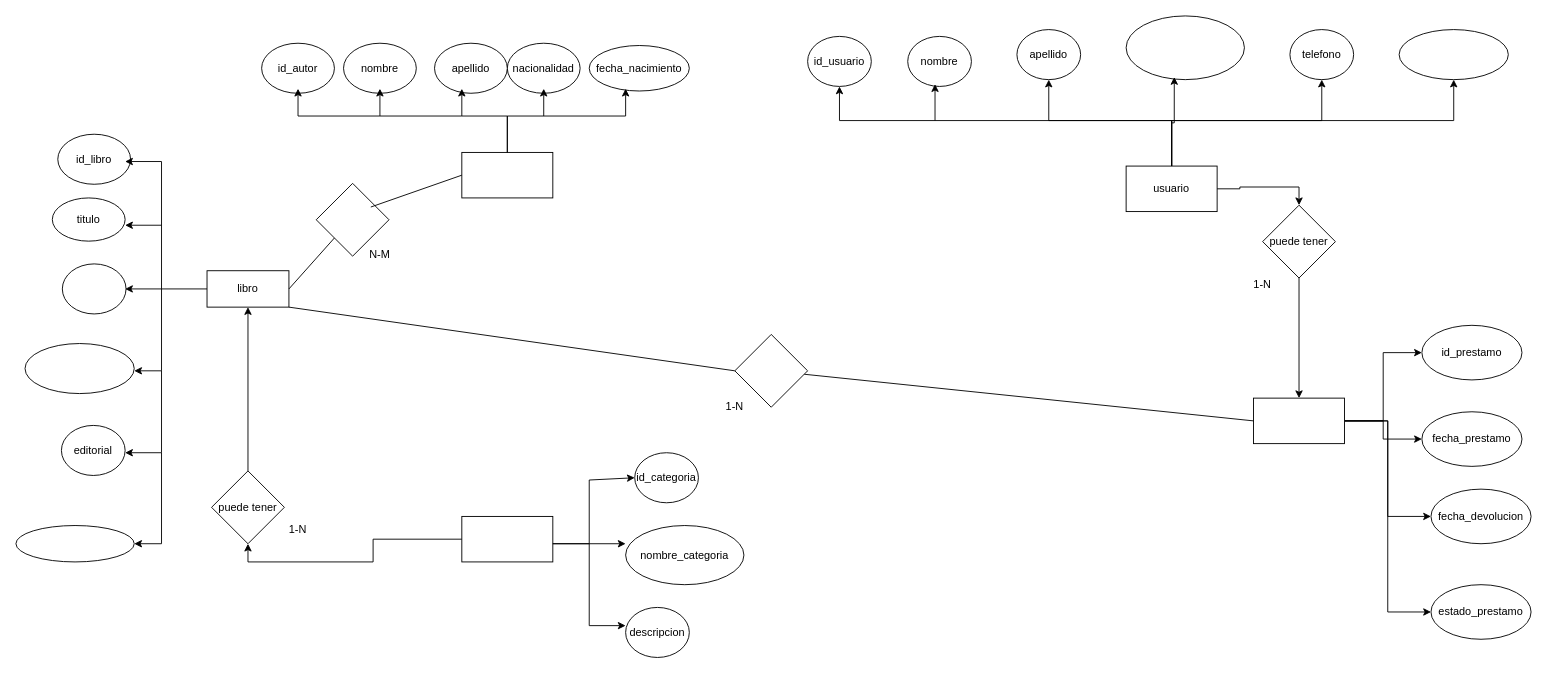
Image size: 1547x673. Some labels were removed from this diagram. The shapes that lost their labels are listed below. From the top down, each one's box as (x1, y1, x2, y2) in pixels, then its label:
(1125, 15, 1244, 80): correo_electronico
(1398, 29, 1508, 80): fecha_registro
(461, 152, 553, 198): autor
(315, 182, 389, 256): escribe
(61, 263, 126, 314): isbn
(24, 343, 134, 394): anio_publicacion
(734, 334, 808, 407): puede aparecer
(1253, 397, 1345, 444): prestamos
(15, 525, 134, 562): cantidad_disponible
(461, 516, 553, 562): categorias
